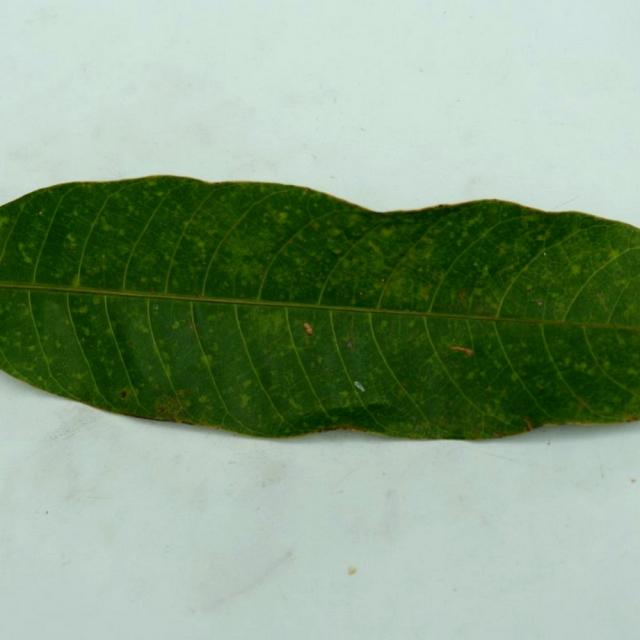Mango: (0, 177, 639, 439)
Powdery_Mildew: (275, 235, 336, 276), (257, 278, 321, 306), (254, 358, 277, 397), (190, 346, 220, 367), (524, 286, 546, 312), (564, 259, 581, 281), (64, 303, 88, 318), (344, 224, 366, 240), (576, 396, 592, 411), (273, 209, 289, 222), (195, 246, 208, 260), (242, 249, 255, 262), (456, 289, 468, 302), (239, 393, 250, 407), (71, 273, 82, 287), (288, 397, 300, 409), (193, 240, 206, 251), (327, 229, 341, 239), (379, 229, 393, 239), (330, 246, 343, 256), (100, 222, 112, 232), (575, 362, 588, 371), (65, 233, 76, 243), (480, 265, 490, 276), (186, 322, 196, 333), (396, 382, 407, 392), (308, 221, 320, 230), (241, 379, 252, 388), (171, 278, 180, 289), (510, 373, 520, 382), (22, 255, 32, 264), (420, 291, 429, 301), (596, 293, 606, 302), (0, 216, 9, 226), (171, 321, 180, 330), (563, 357, 572, 366), (466, 372, 475, 380), (76, 372, 85, 380), (407, 320, 416, 328), (476, 305, 484, 314), (177, 389, 186, 397), (198, 396, 208, 403), (316, 355, 323, 365), (338, 391, 348, 398), (82, 328, 90, 336), (119, 390, 127, 398), (627, 369, 636, 376), (526, 286, 533, 295), (346, 340, 353, 349), (139, 276, 147, 283), (212, 343, 219, 351), (200, 260, 207, 268), (55, 341, 61, 348), (28, 345, 35, 351), (152, 304, 159, 310), (473, 262, 479, 268), (194, 293, 201, 298), (38, 210, 44, 215), (359, 291, 364, 296), (381, 278, 385, 282), (543, 252, 546, 256)
